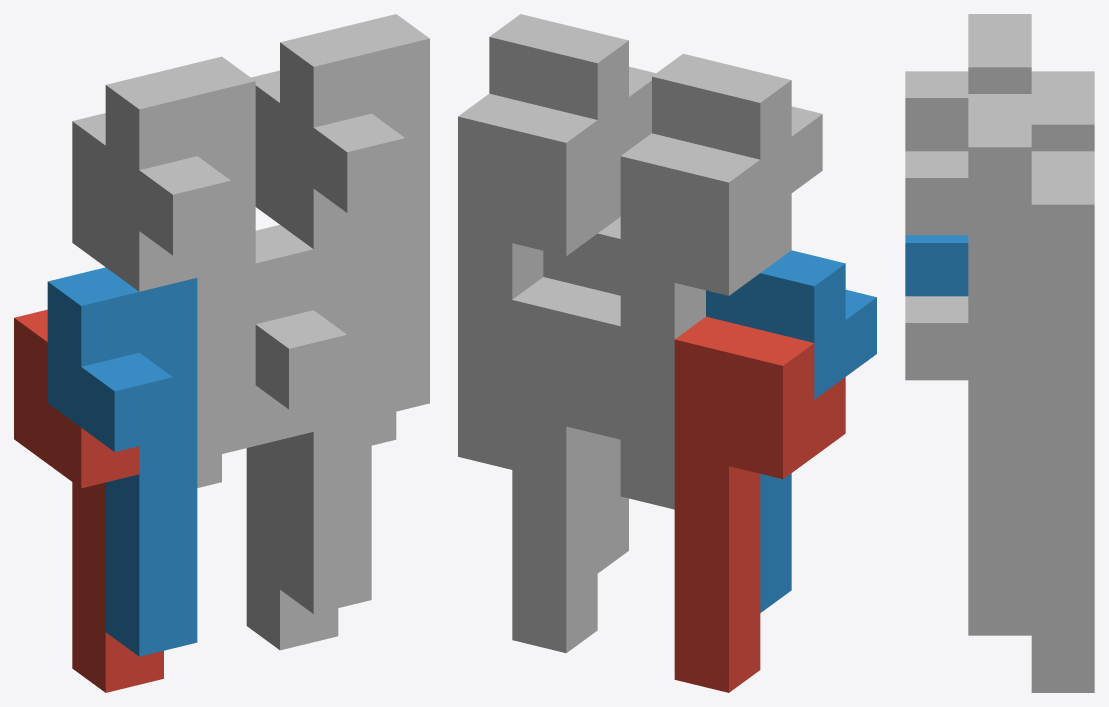
File: tiling.obj
3 views of the same model, side by side, from view 1: azimuth 30°, elevation 25°; view 2: azimuth 150°, elevation 25°; view 3: azimuth 270°, elevation 25° (orthographic). The views are drawn at different scales.
Visible parts, largest first — view 1: copy_1_domain_2, copy_1_domain_4, copy_1_domain_8, copy_1_domain_6, copy_1_domain_1, copy_1_domain_5, copy_1_domain_3, copy_1_domain_7; view 2: copy_1_domain_1, copy_1_domain_3, copy_1_domain_7, copy_1_domain_5, copy_1_domain_2, copy_1_domain_4, copy_1_domain_8, copy_1_domain_6; view 3: copy_1_domain_8, copy_1_domain_7, copy_1_domain_6, copy_1_domain_4, copy_1_domain_5, copy_1_domain_3, copy_1_domain_2.
Boxes of the visible parts, <box> form: copy_1_domain_2: <box>47,267,197,656</box>; copy_1_domain_4: <box>105,56,255,459</box>; copy_1_domain_8: <box>280,14,429,417</box>; copy_1_domain_6: <box>255,225,371,613</box>; copy_1_domain_1: <box>14,309,163,692</box>; copy_1_domain_5: <box>246,385,338,650</box>; copy_1_domain_3: <box>72,113,221,487</box>; copy_1_domain_7: <box>251,70,396,445</box>; copy_1_domain_1: <box>674,316,845,692</box>; copy_1_domain_3: <box>620,133,791,509</box>; copy_1_domain_7: <box>458,93,620,469</box>; copy_1_domain_5: <box>512,277,620,653</box>; copy_1_domain_2: <box>706,250,876,612</box>; copy_1_domain_4: <box>652,53,822,215</box>; copy_1_domain_8: <box>489,14,655,176</box>; copy_1_domain_6: <box>543,217,628,573</box>; copy_1_domain_8: <box>905,94,1031,490</box>; copy_1_domain_7: <box>1031,151,1094,547</box>; copy_1_domain_6: <box>905,296,1031,635</box>; copy_1_domain_4: <box>905,14,1031,151</box>; copy_1_domain_5: <box>1031,548,1094,692</box>; copy_1_domain_3: <box>1031,71,1094,151</box>; copy_1_domain_2: <box>905,235,968,296</box>.
Bounding box in the file's own units: 6 × 10 × 3.
